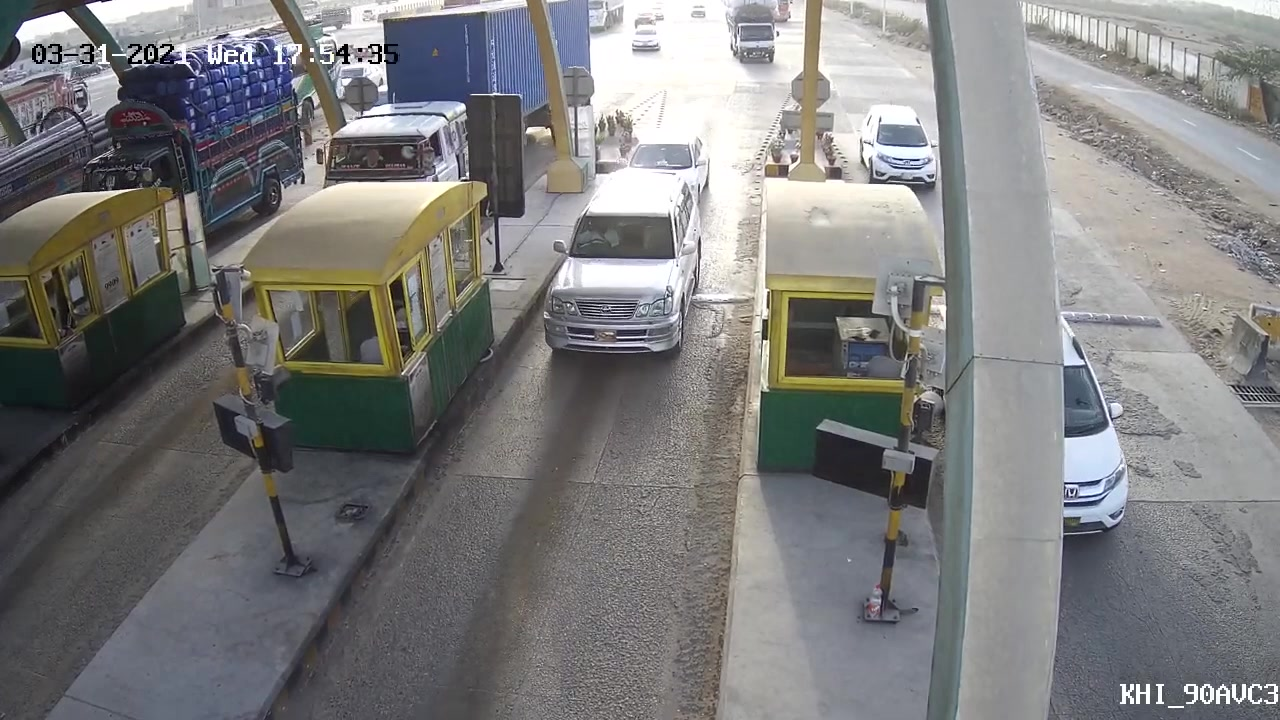F1: (538, 169, 710, 361)
